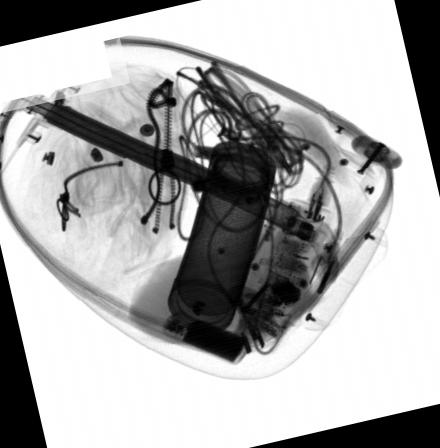Powerbank: (161, 310, 250, 364)
